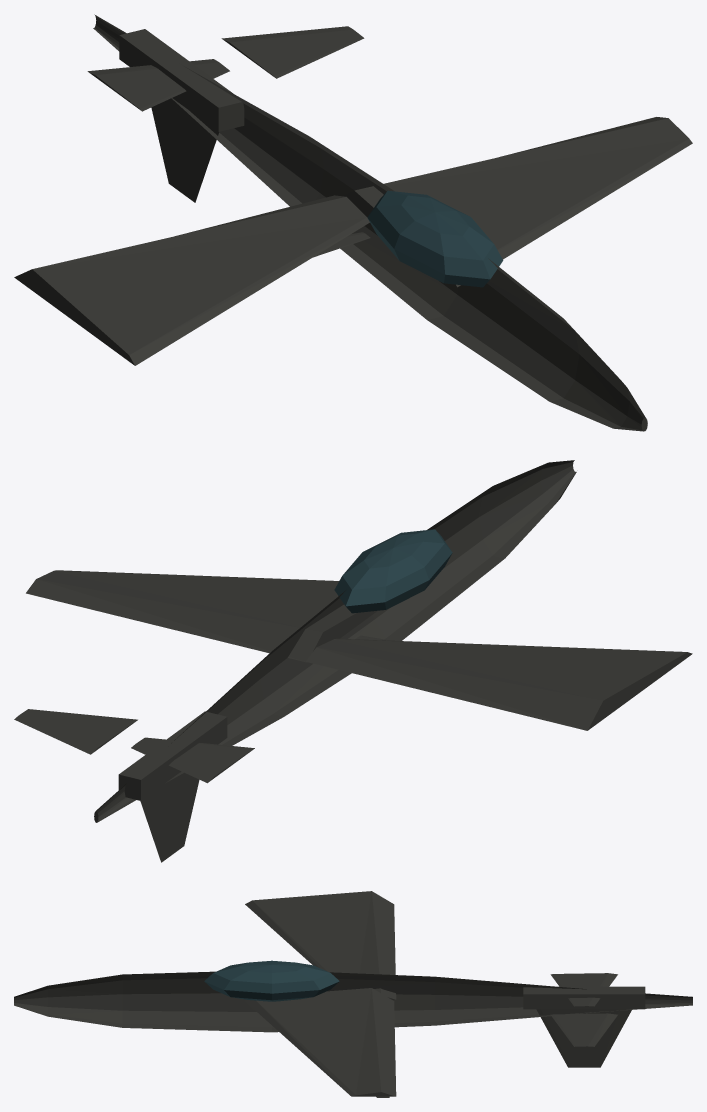
Rendered from su35_Destroyed.glb.
The picture shows the model from 3 angles, top to bottom: view 1: azimuth 30°, elevation 25°; view 2: azimuth 150°, elevation 25°; view 3: azimuth 270°, elevation 25°; orthographic projection. The views are drawn at different scales.
Parts seen in each view (by area): view 1: Fuselage, Wing_L, Wing_R, Cockpit, TailBoom, Rudder, Elevator_R, Elevator_L; view 2: Wing_L, Fuselage, Wing_R, Cockpit, TailBoom, Rudder, Elevator_R, Elevator_L; view 3: Fuselage, Wing_R, Wing_L, Cockpit, TailBoom, Rudder, Elevator_R, Elevator_L.
Part boxes in pixels (x1,y1,x2,y2): Fuselage: (93, 14, 647, 431); Wing_L: (14, 195, 369, 365); Wing_R: (342, 117, 692, 287); Cockpit: (367, 190, 503, 287); TailBoom: (119, 29, 244, 131); Rudder: (151, 98, 219, 202); Elevator_R: (221, 26, 364, 78); Elevator_L: (87, 59, 229, 111); Wing_L: (306, 638, 692, 730); Fuselage: (94, 460, 576, 822); Wing_R: (26, 570, 377, 662); Cockpit: (334, 529, 452, 613); TailBoom: (118, 711, 227, 800); Rudder: (140, 771, 199, 862); Elevator_R: (14, 709, 137, 754); Elevator_L: (131, 737, 254, 783); Fuselage: (14, 971, 692, 1032); Wing_R: (245, 988, 396, 1096); Wing_L: (245, 891, 396, 999); Cockpit: (204, 960, 339, 1001); TailBoom: (523, 986, 645, 1009); Rudder: (536, 1009, 631, 1067); Elevator_R: (550, 1013, 617, 1046); Elevator_L: (550, 973, 617, 1006).
Bounding box in the file's own units: 14.78 × 3.66 × 21.9.
